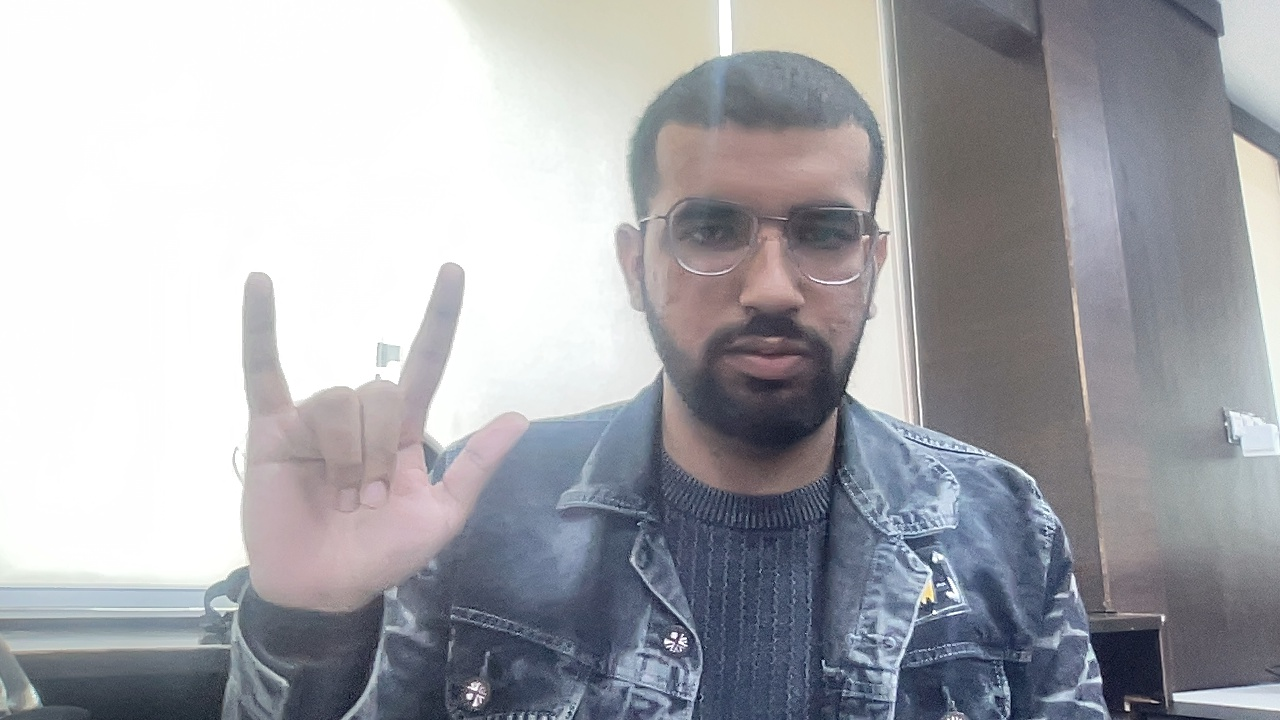I Love You: (183, 222, 560, 636)
